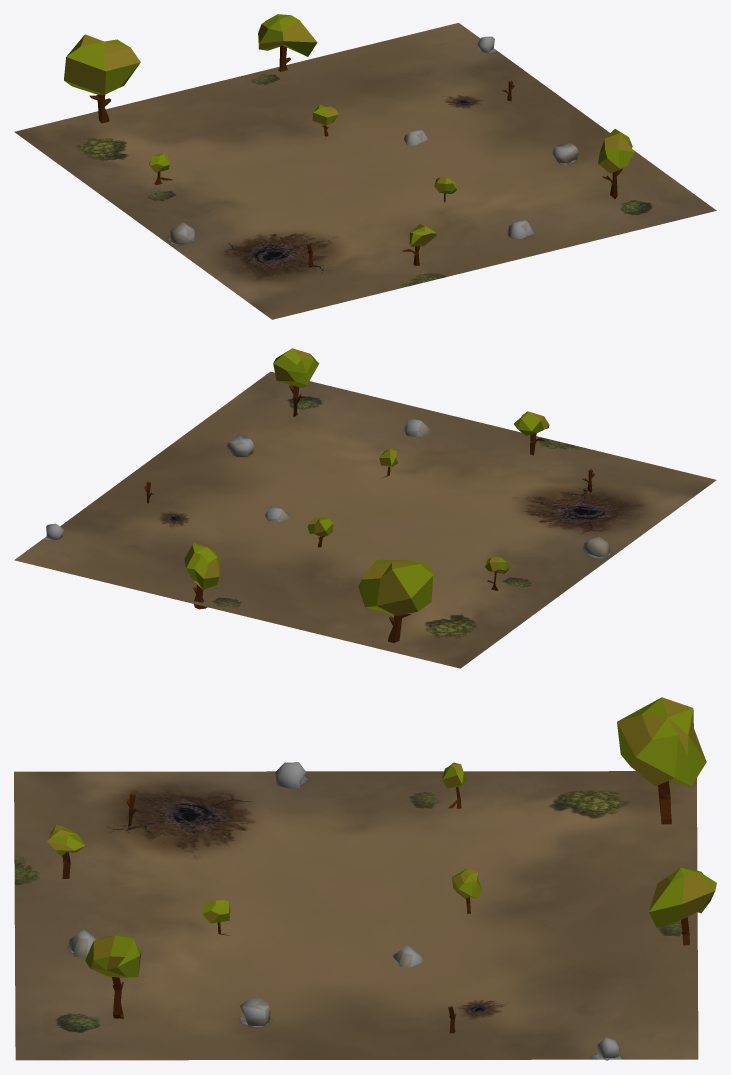
File: textureduzzeminson 1.fbx
3 views of the same model, one above another, from view 1: azimuth 30°, elevation 25°; view 2: azimuth 150°, elevation 25°; view 3: azimuth 270°, elevation 25° (orthographic). The views are drawn at different scales.
Parts seen in each view (by area): view 1: Plane, Sphere.004, Sphere.006, Sphere.007; view 2: Plane, Sphere.004, Sphere.007, Sphere.006, Sphere.008; view 3: Plane, Sphere.004, Sphere.006, Sphere.007, Sphere.008, Sphere, Sphere.010, Sphere.002.
Part boxes in pixels (bbox=[...]): Plane: bbox=[14, 23, 716, 319]; Sphere.004: bbox=[64, 34, 140, 94]; Sphere.006: bbox=[258, 14, 317, 56]; Sphere.007: bbox=[598, 129, 634, 173]; Plane: bbox=[14, 371, 716, 668]; Sphere.004: bbox=[358, 559, 433, 615]; Sphere.007: bbox=[273, 348, 319, 388]; Sphere.006: bbox=[184, 543, 220, 589]; Sphere.008: bbox=[514, 411, 549, 435]; Plane: bbox=[14, 771, 698, 1060]; Sphere.004: bbox=[617, 697, 706, 786]; Sphere.006: bbox=[649, 867, 716, 927]; Sphere.007: bbox=[85, 934, 141, 978]; Sphere.008: bbox=[46, 824, 84, 855]; Sphere: bbox=[240, 998, 270, 1025]; Sphere.010: bbox=[452, 868, 482, 898]; Sphere.002: bbox=[275, 762, 305, 788].
Bounding box in the file's own units: 2111 × 432 × 2168.
